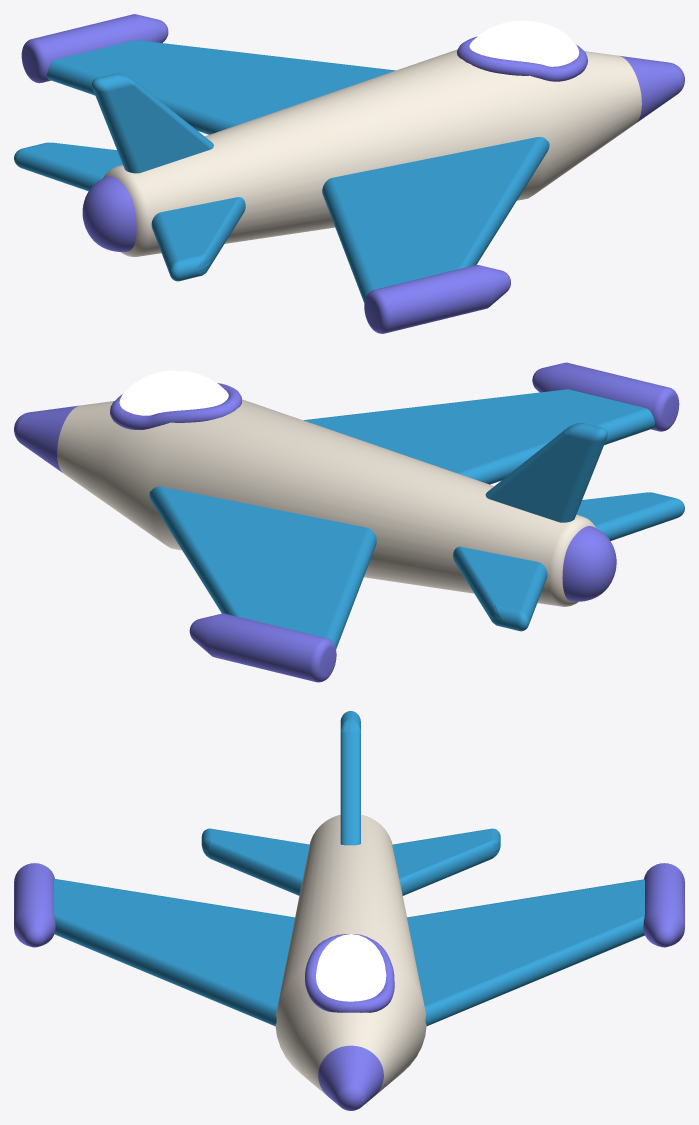
3 renders of one model, top to bottom at view 1: azimuth 30°, elevation 25°; view 2: azimuth 150°, elevation 25°; view 3: azimuth 270°, elevation 25°, orthographic. The views are drawn at different scales.
Visible parts, largest first — view 1: Cylinder.003; view 2: Cylinder.003; view 3: Cylinder.003.
Part boxes in pixels (left/top/right/bottom): Cylinder.003: left=14, top=14, right=684, bottom=333; Cylinder.003: left=14, top=362, right=684, bottom=682; Cylinder.003: left=14, top=711, right=684, bottom=1110.
Size of the model in its own units: 8.33 by 2.87 by 8.86.
